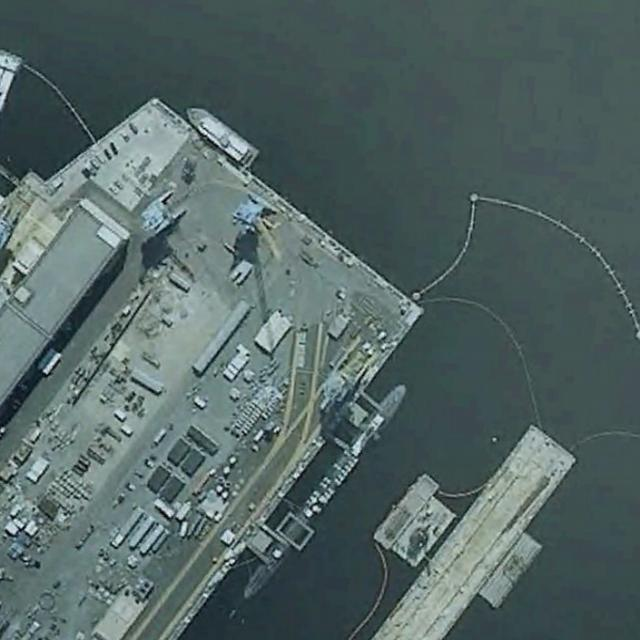Other Ship: (180, 99, 261, 170)
Submarine: (235, 375, 412, 606)
